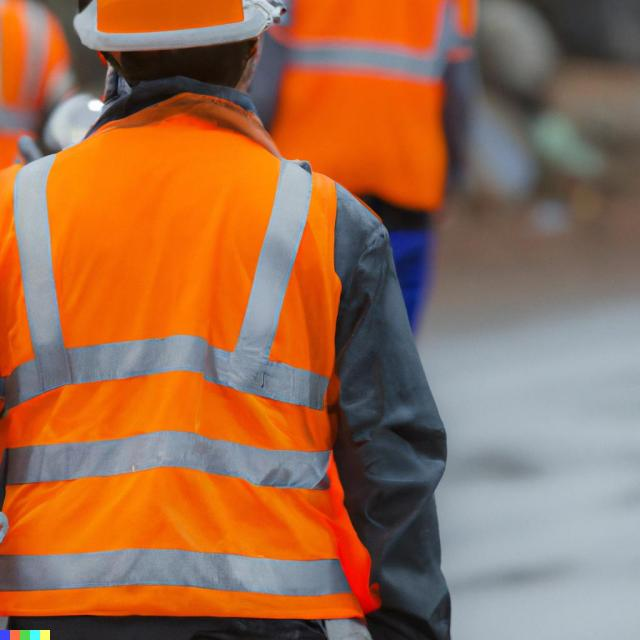Reflective-Jacket: (1, 105, 375, 633)
Safety-Helmet: (77, 0, 289, 57)
